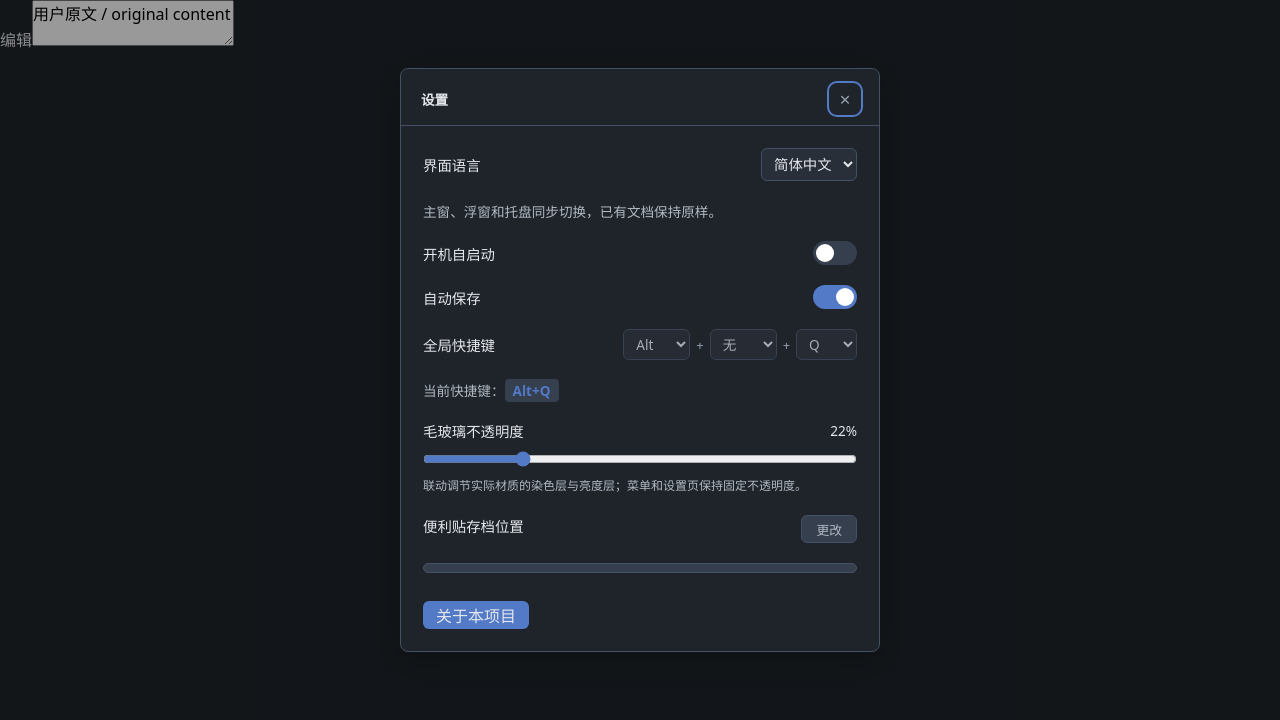
it: retains the confirmed language when persistence fails
The width and height of the screenshot is (1280, 720).
Select "English" in the dropdown labelled "界面语言" at (809, 164), box x1=761 y1=148 x2=857 y2=181
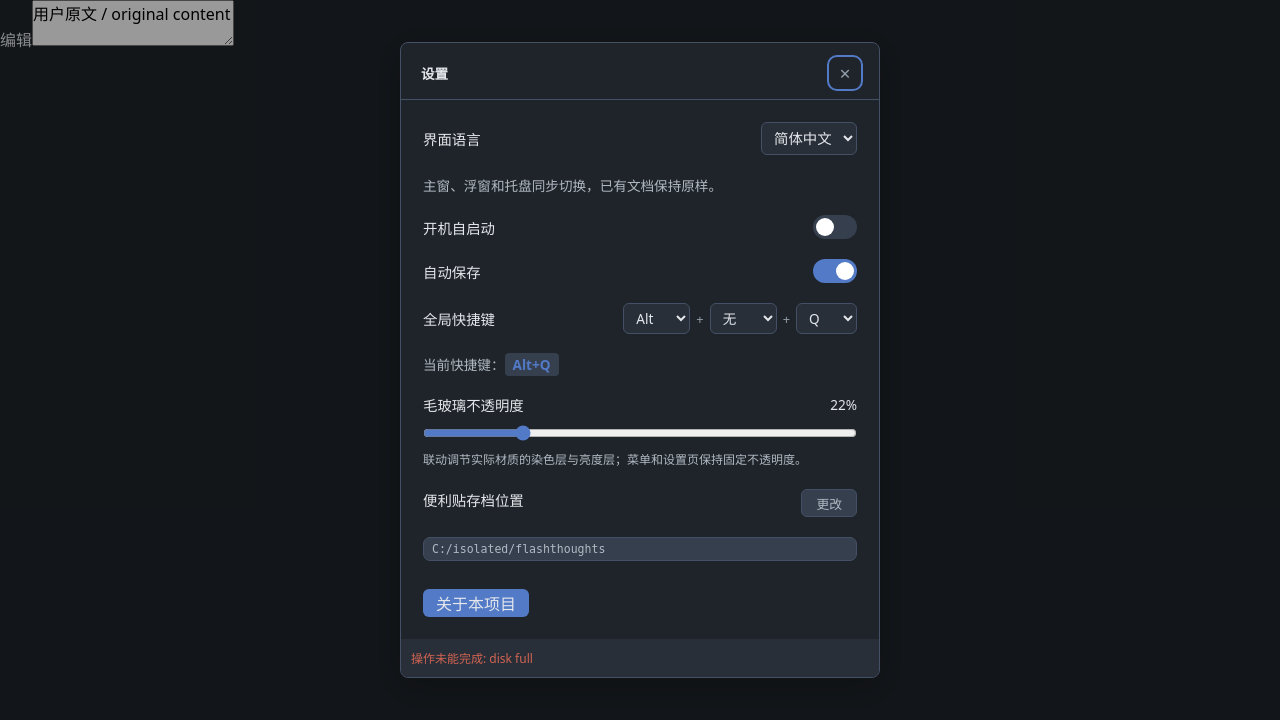
expect the text "操作未能完成: disk full" is shown: met, box x1=401 y1=639 x2=879 y2=677
